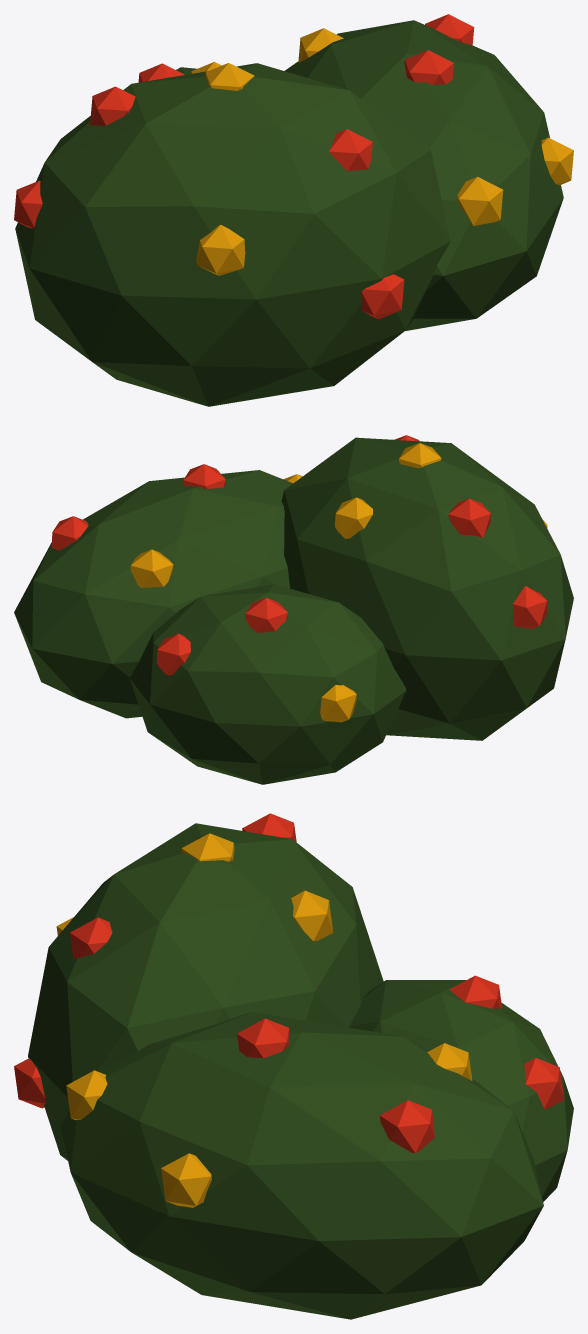
The model's file is Bush_1.glb.
3 renders of one model, top to bottom at view 1: azimuth 30°, elevation 25°; view 2: azimuth 150°, elevation 25°; view 3: azimuth 270°, elevation 25°, orthographic. The views are drawn at different scales.
Visible parts, largest first — view 1: Bush.001; view 2: Bush.001; view 3: Bush.001.
Part boxes in pixels (x1,y1,x2,y2): Bush.001: [14, 14, 573, 406]; Bush.001: [14, 435, 573, 784]; Bush.001: [14, 813, 573, 1319].
Size of the model in its own units: 2.24 by 1.3 by 1.83.
